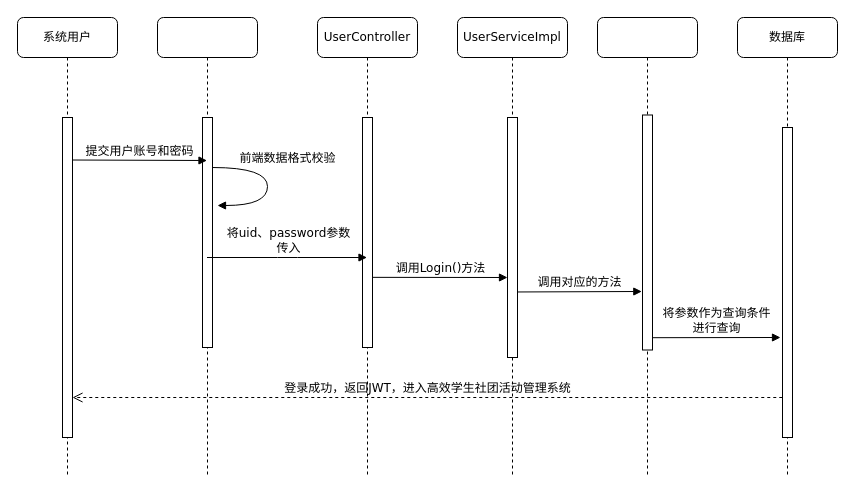
This 855x495 diagram has some shape labels left out. Each missing label, with the box of its shape:
loginPage.vue: (156, 16, 258, 478)
UserMapper: (596, 16, 698, 478)
